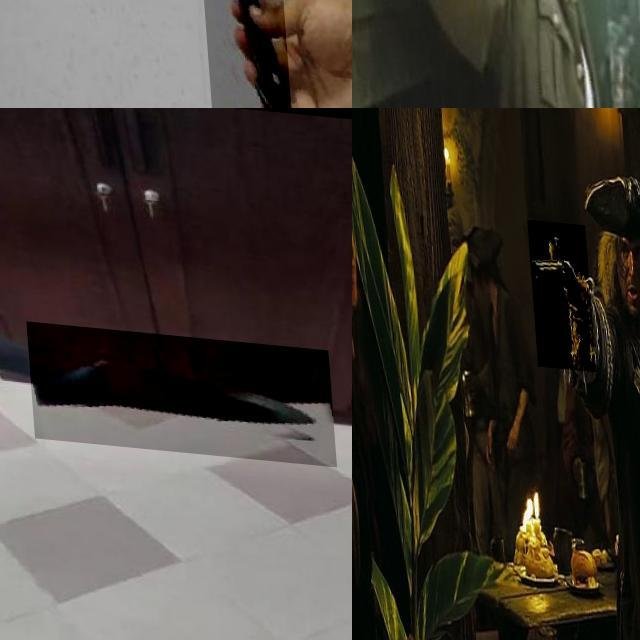-: (23, 318, 331, 458), (191, 0, 287, 108)
gun-knife-thesis - v11 Yolov5 augmented: (526, 212, 592, 363), (352, 0, 424, 84)
